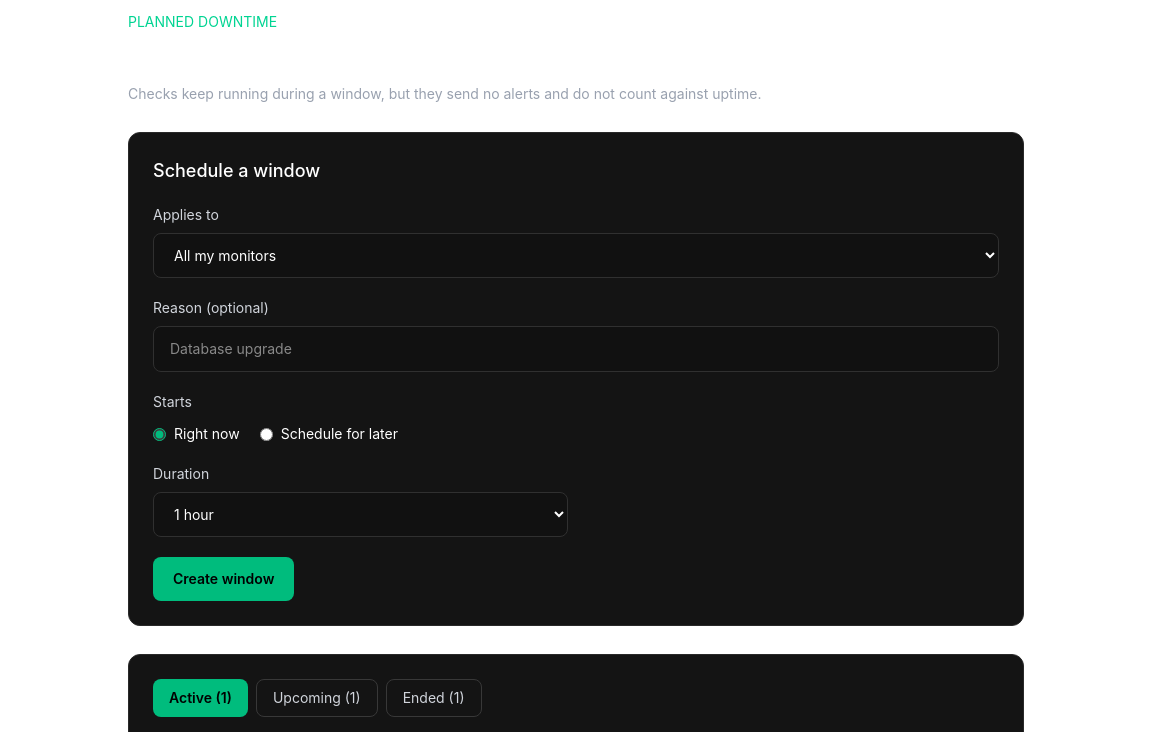
Test: MaintenanceWindows page › shows tab counts and only the windows of the selected tab
Expected: the tab "Active (1)" is shown, 153,679 -> 248,717
Expected: the tab "Ended (1)" is shown, 386,679 -> 482,717
Click the tab "Upcoming (1)": (317, 698) 256,679 -> 378,717
(page scrolled)
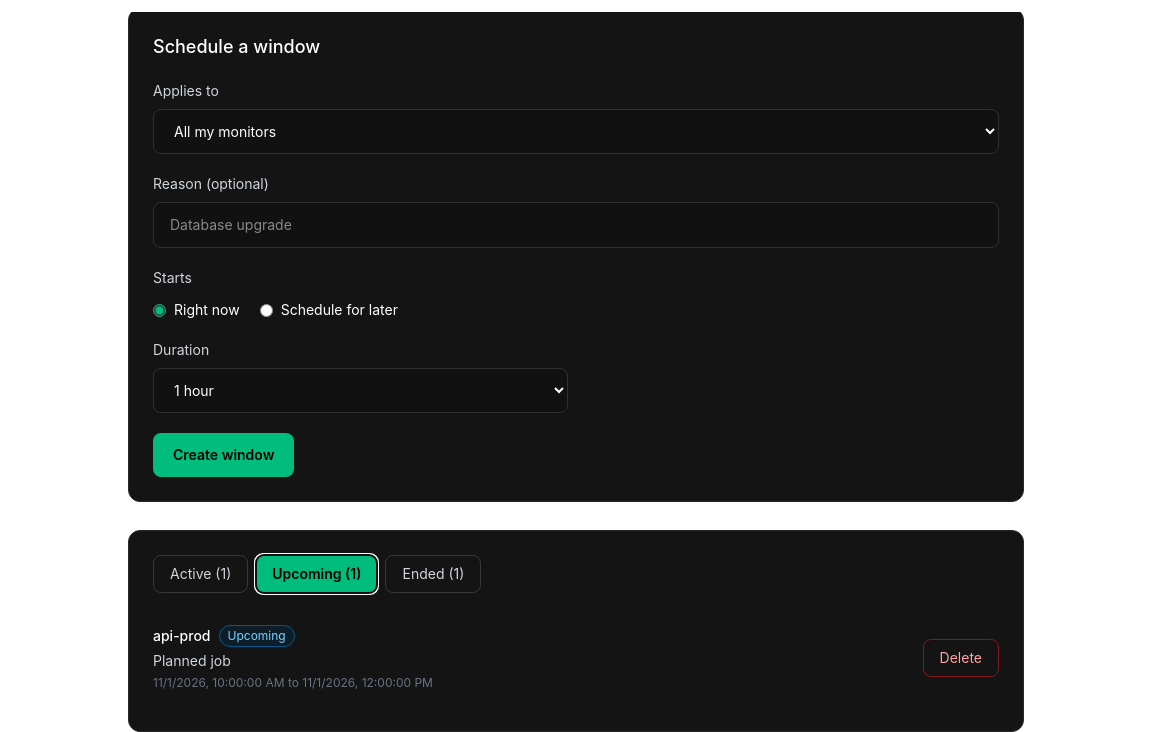
Now the text "Planned job" is shown, box 153,652 -> 231,669
